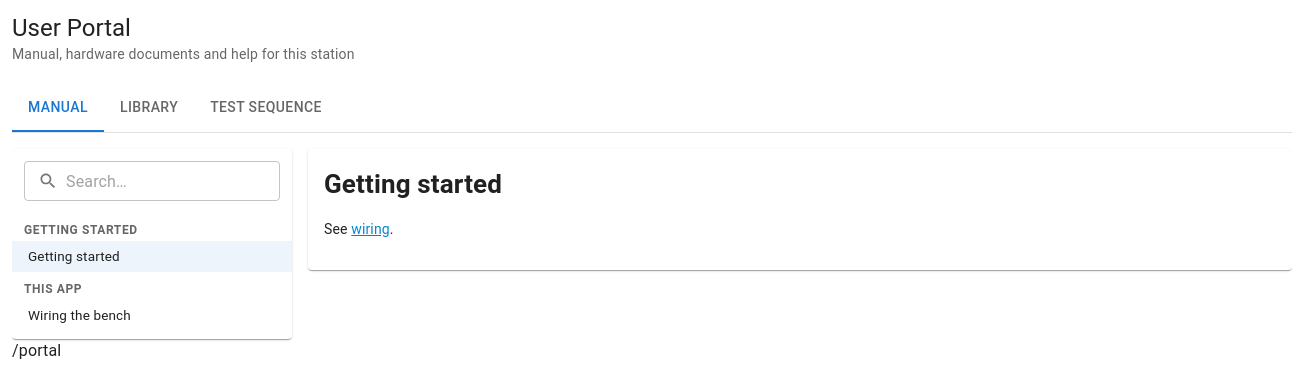
Test case: Portal › switches to the Library tab and back
Expected: the heading "Getting started" is shown, top-left (324, 169), bottom-right (502, 199)
Click the tab "Library" at (149, 108), box top-left (104, 84), bottom-right (194, 132)
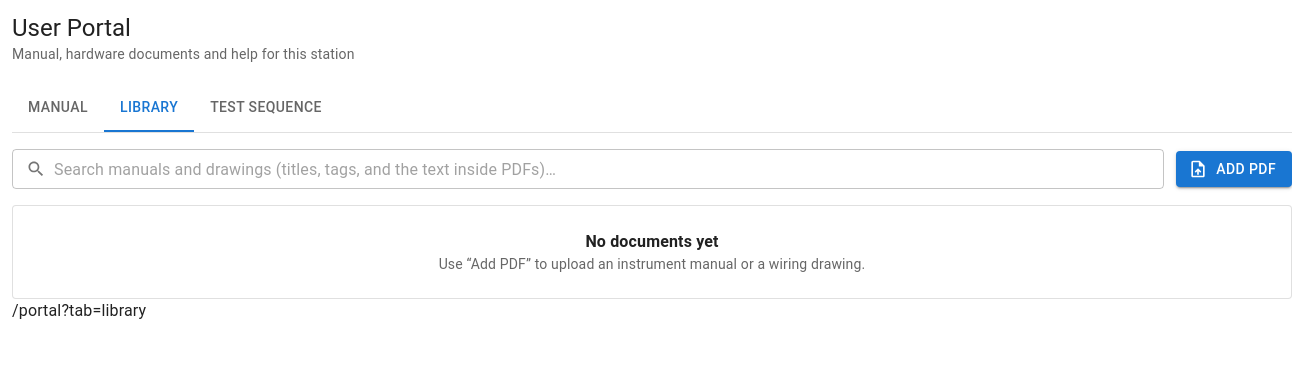
Expected: the field named "search library" is shown, top-left (54, 149), bottom-right (1164, 189)
Expected: the text with test id "where" reads "/portal?tab=library", top-left (12, 301), bottom-right (146, 320)
Click the tab "Manual" at (58, 108), box top-left (12, 84), bottom-right (104, 132)
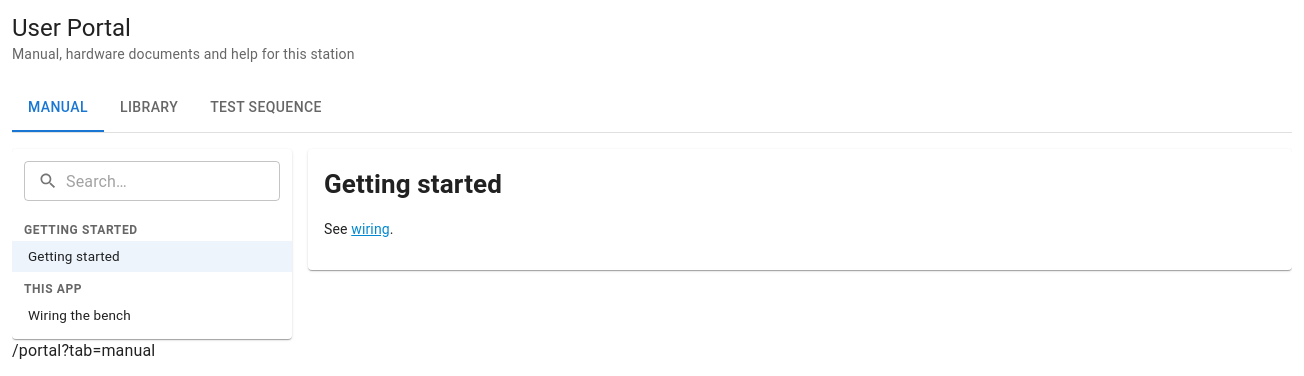
Expected: the heading "Getting started" is shown, top-left (324, 169), bottom-right (502, 199)
